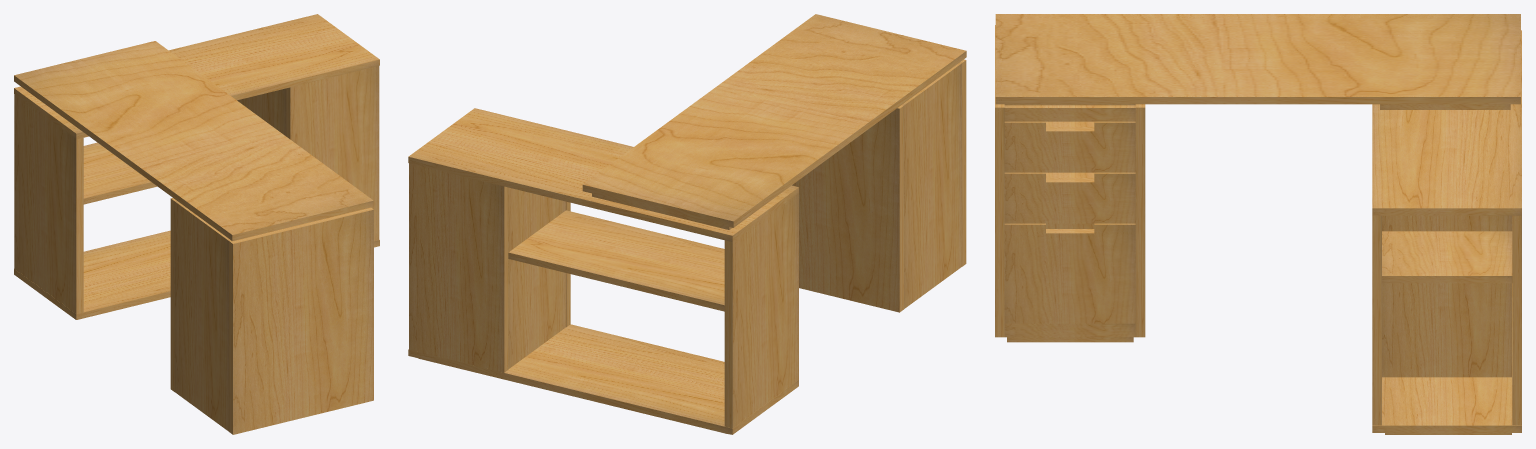
File: m_desk.FBX
3 views of the same model, side by side, from view 1: azimuth 30°, elevation 25°; view 2: azimuth 150°, elevation 25°; view 3: azimuth 270°, elevation 25° (orthographic). The views are drawn at different scales.
Visible parts, largest first — view 1: desk; view 2: desk; view 3: desk.
Boxes of the visible parts, x1,y1,x2,y2 form: desk: (14, 14, 379, 434); desk: (408, 14, 966, 434); desk: (995, 14, 1521, 434).
Bounding box in the file's own units: 121 × 77.53 × 151.
